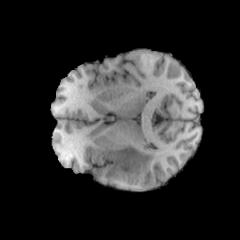glioma: (104, 146, 154, 183)
